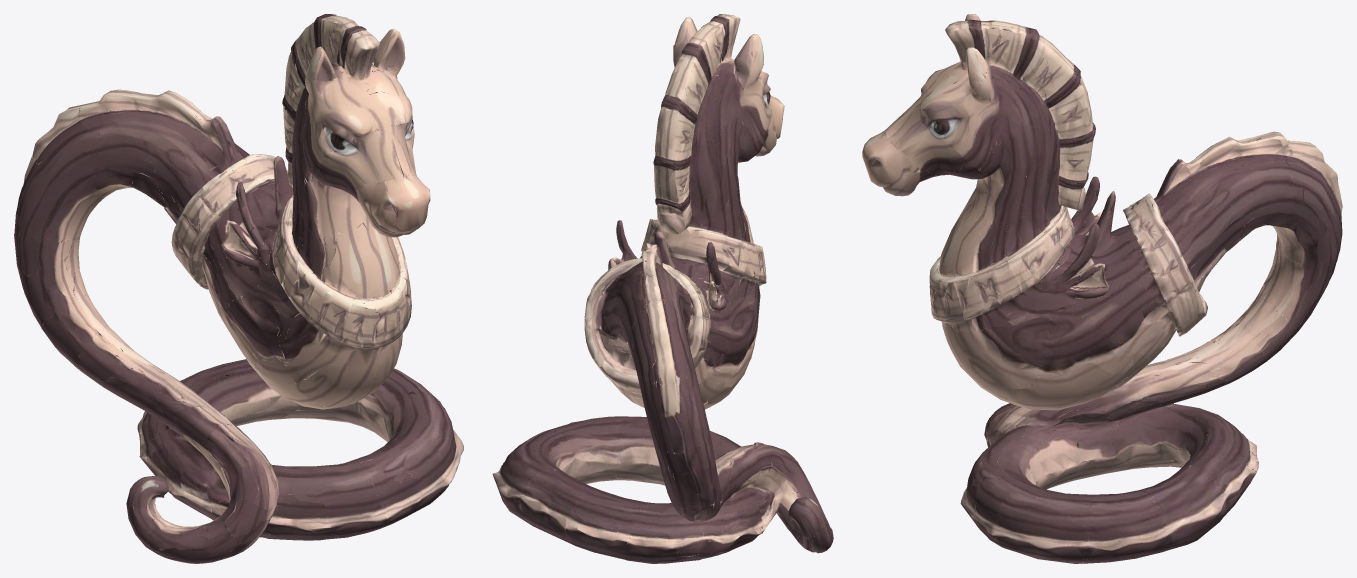
3 views of the same model, side by side, from view 1: azimuth 30°, elevation 25°; view 2: azimuth 150°, elevation 25°; view 3: azimuth 270°, elevation 25° (orthographic). The views are drawn at different scales.
Visible parts, largest first — view 1: Mesh_0; view 2: Mesh_0; view 3: Mesh_0.
Part boxes in pixels (bbox=[...]): Mesh_0: bbox=[14, 14, 463, 563]; Mesh_0: bbox=[492, 14, 833, 563]; Mesh_0: bbox=[862, 14, 1342, 563].
Bounding box in the file's own units: 1.25 × 1.9 × 1.66.
Materials: 1 (1 with a texture image).
